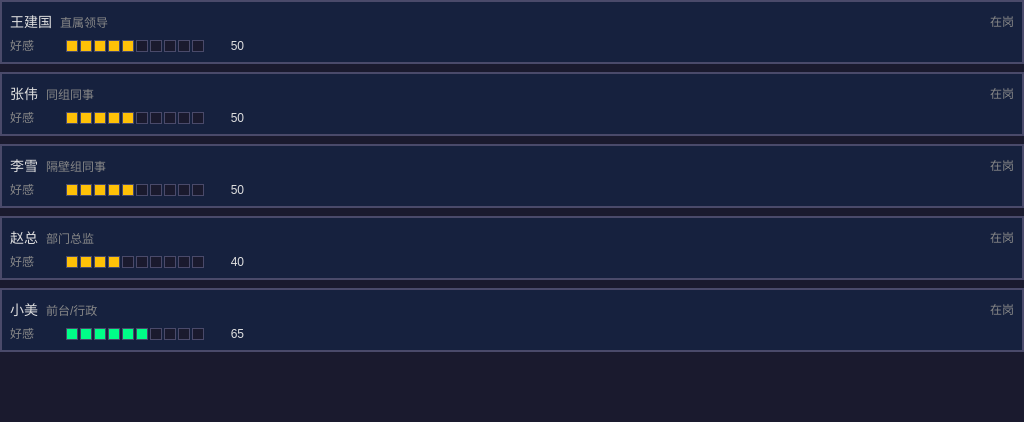
Test: RelationshipsTab › shows hiddenGoal when favor >= 60
The image size is (1024, 422).
Step 1. Click the text "小美" → (24, 310), box [10,302,38,318]
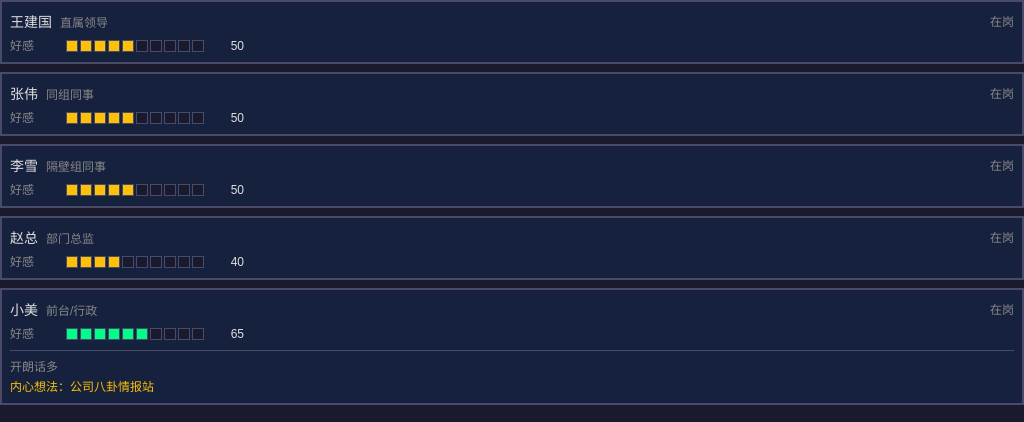
Check: the text "内心想法：公司八卦情报站" is shown, box [10,380,154,394]
